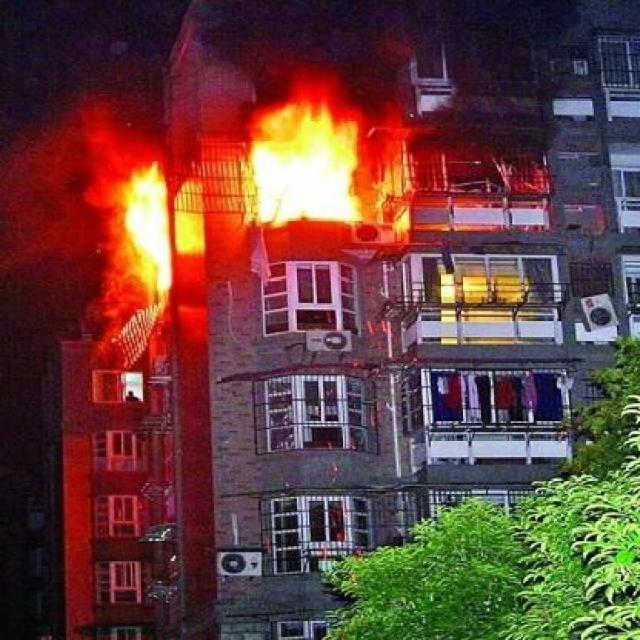Fire: (243, 106, 369, 226), (114, 158, 181, 326), (176, 179, 213, 260)
